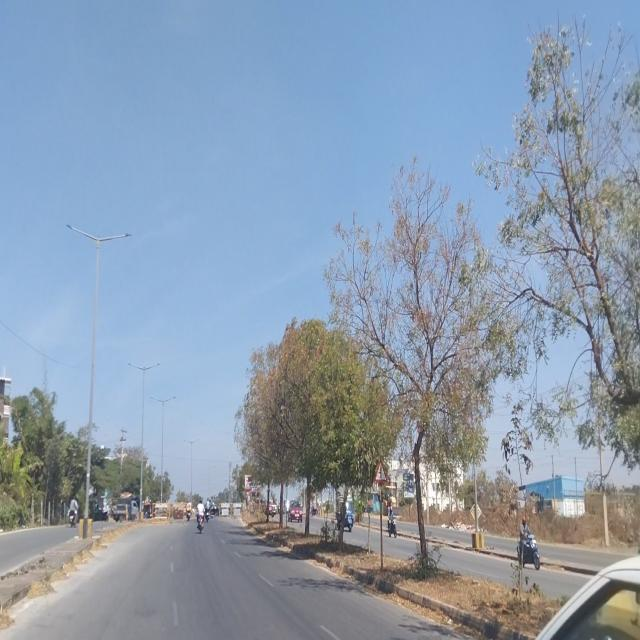bien_cam: (373, 457, 387, 484)
